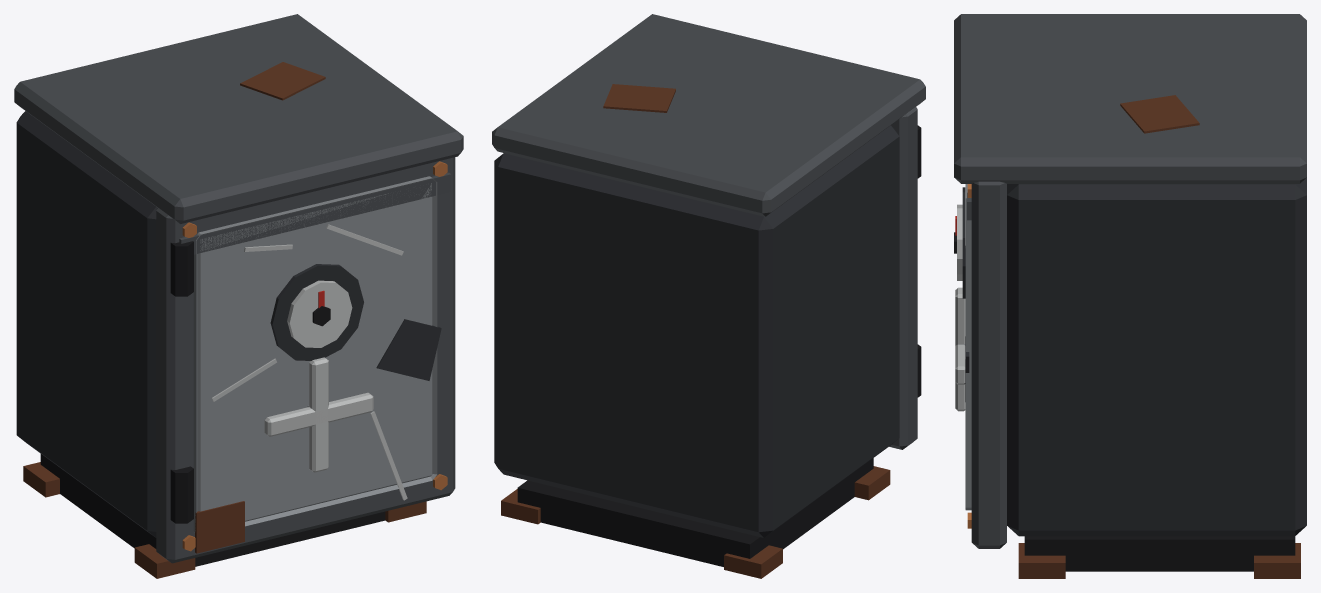
The model's file is furn_safe.fbx.
3 renders of one model, left to right at view 1: azimuth 30°, elevation 25°; view 2: azimuth 150°, elevation 25°; view 3: azimuth 270°, elevation 25°, orthographic. The views are drawn at different scales.
Parts seen in each view (by area): view 1: furn_safe, Door; view 2: furn_safe, Door; view 3: furn_safe, Door.
Part boxes in pixels (x1,y1,x2,y2): furn_safe: (14,14,463,578); Door: (156,157,455,563); furn_safe: (492,14,925,578); Door: (889,107,921,449); furn_safe: (954,14,1306,578); Door: (954,181,1006,548).
Bounding box in the file's own units: 0.6 × 0.799 × 0.6.
